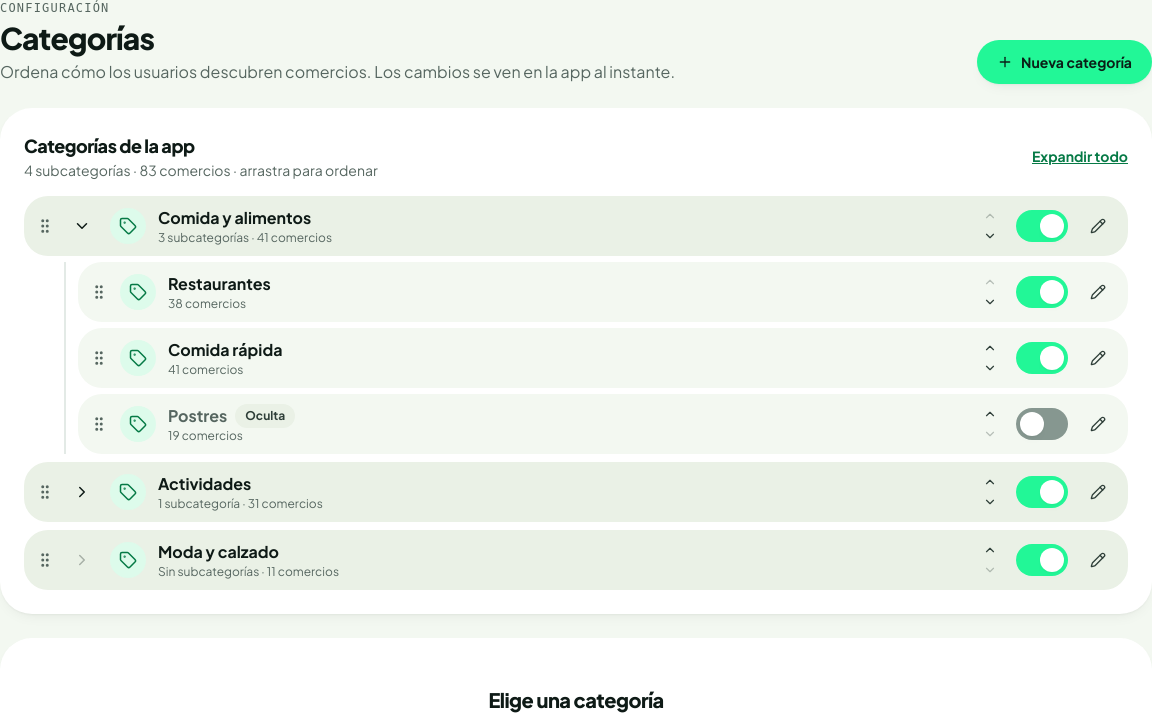
Test: B11 Categorias › crea una subcategoria dentro de una categoria principal
The width and height of the screenshot is (1152, 720).
Check: the text "Comida rápida" is shown, box x1=168 y1=338 x2=282 y2=362
Click the button "Nueva categoría".
click(1065, 62)  # box x1=977 y1=40 x2=1151 y2=84
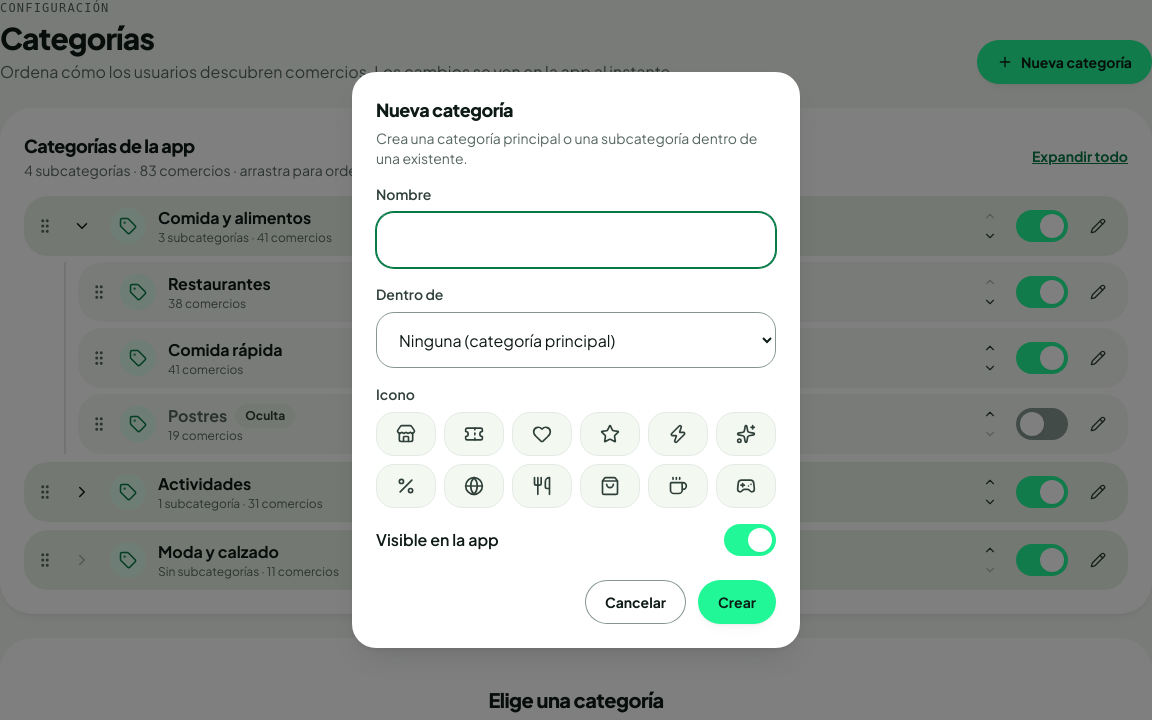
Type "Cafetería" into the field labelled "Nombre".
click(576, 240); type("Cafetería")  # box x1=377 y1=213 x2=775 y2=267
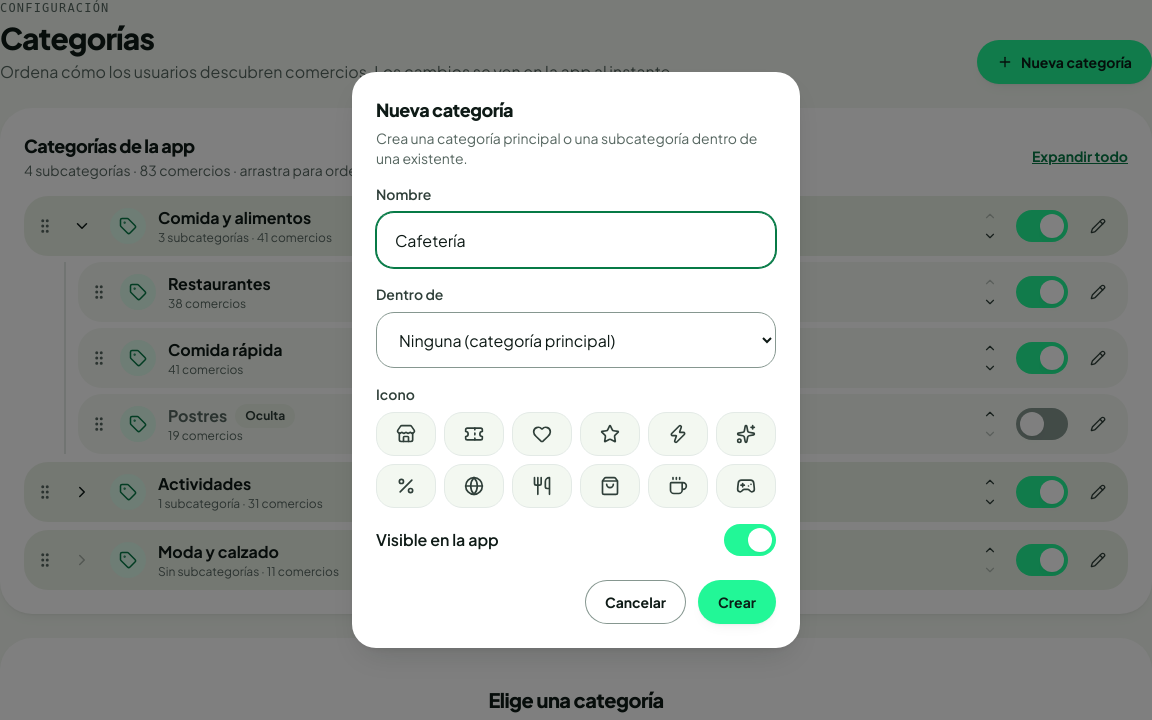
Select "Comida y alimentos" in the dropdown labelled "Dentro de" at [576, 340], box x1=376 y1=312 x2=776 y2=368
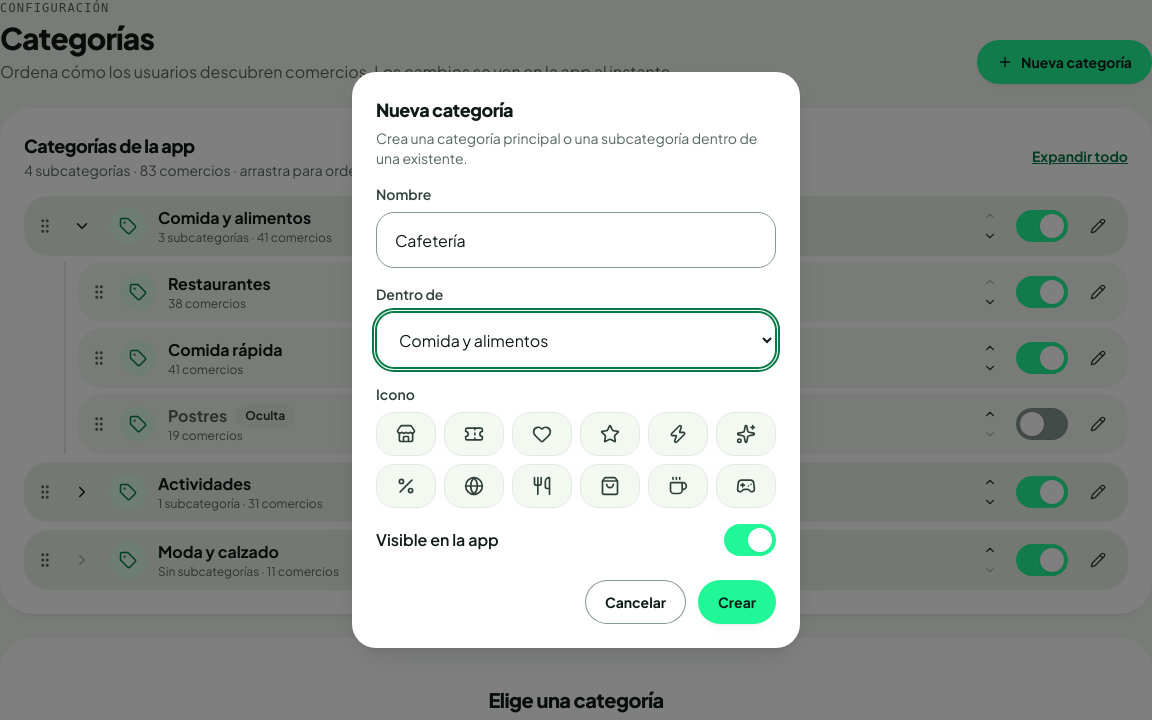
Click the button named "Icono heart".
click(542, 434)  # box x1=512 y1=412 x2=572 y2=456
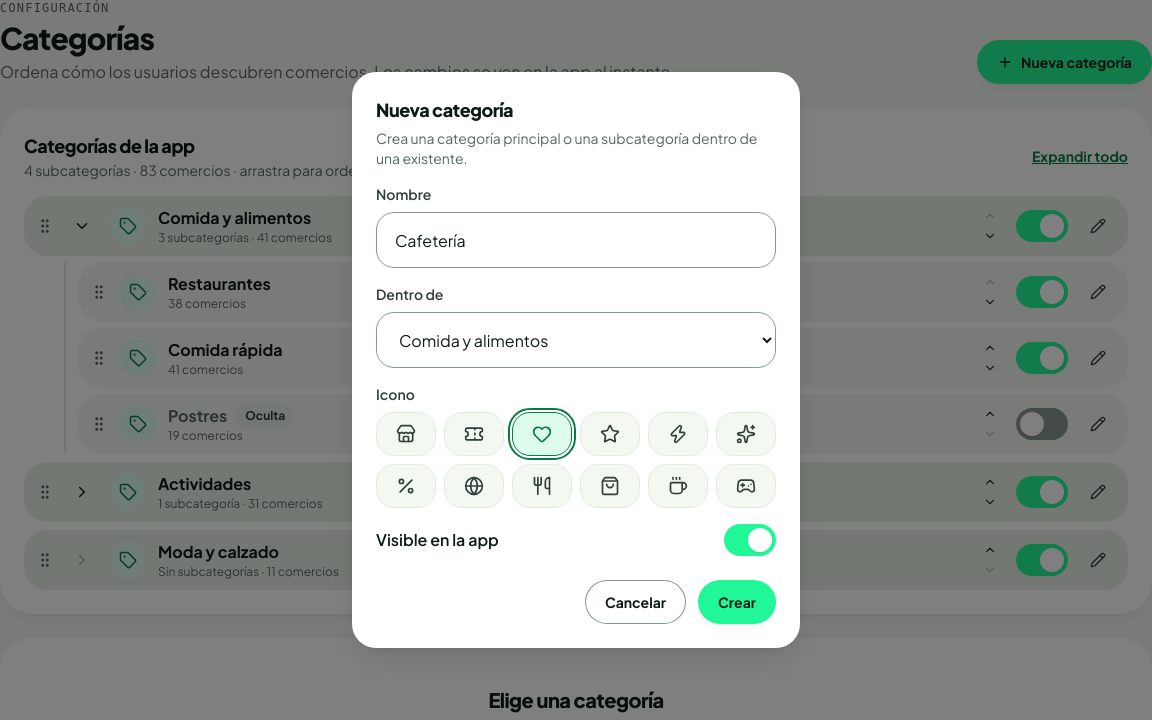
Click the button "Crear".
click(737, 602)  # box x1=698 y1=580 x2=776 y2=624
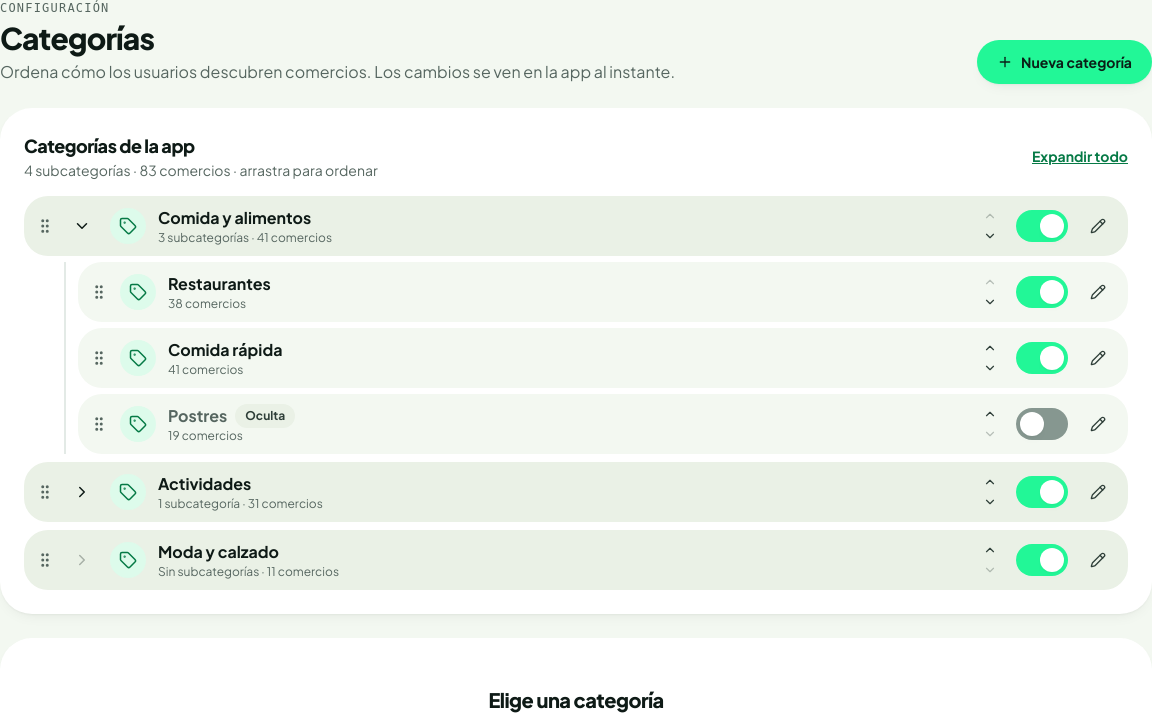
Check: the dialog is gone
